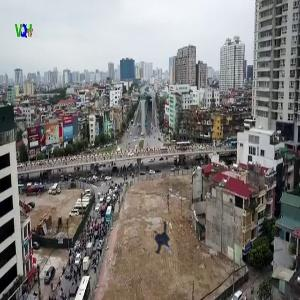drone: (142, 220, 188, 266)
